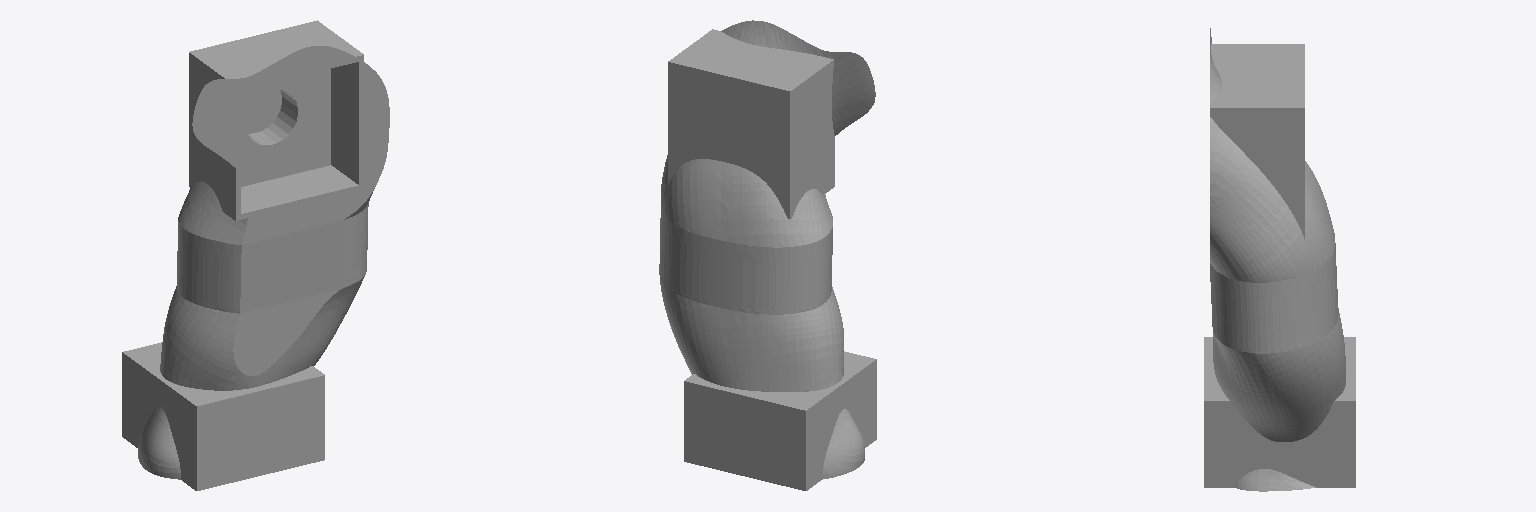
robot.urdf — FrogBot4_top-FrogBot4-y-5_bottom-FrogBot4-y-5:
<?xml version="1.0" ?>
<robot name="FrogBot4_top-FrogBot4-y-5_bottom-FrogBot4-y-5">

<material name="pla_5_percent_infill">
  <color rgba="0.700 0.700 0.700 1.000"/>
</material>

<link name="base_link">
  <inertial>
    <origin xyz="0 0 0" rpy="0 0 0"/>
    <mass value="1.4608203761339813"/>
    <inertia ixx="0.00496034401110324" iyy="0.010259632804669863" izz="0.010457868746855814" ixy="4.519338143051983e-05" iyz="5.808312742508133e-05" ixz="-0.001193761897574285"/>
  </inertial>
  <visual>
    <origin xyz="0 0 0" rpy="0 0 0"/>
    <geometry>
      <mesh filename="simple_meshes/base_link.stl" scale="0.001 0.001 0.001"/>
    </geometry>
    <material name="pla_5_percent_infill"/>
  </visual>
  <collision>
    <origin xyz="0 0 0" rpy="0 0 0"/>
    <geometry>
      <mesh filename="simple_meshes/base_link.stl" scale="0.001 0.001 0.001"/>
    </geometry>
  </collision>
</link>

<link name="body_1_0_1">
  <inertial>
    <origin xyz="-0.039935 -0.102508 -0.020563" rpy="0 0 0"/>
    <mass value="0.0797575690457002"/>
    <inertia ixx="9.596908685615075e-05" iyy="0.00011091879741799903" izz="3.522125293106931e-05" ixy="9.601431572328037e-07" iyz="2.5762300177321396e-06" ixz="-1.4283803855344253e-05"/>
  </inertial>
  <visual>
    <origin xyz="-0.039935 -0.102508 -0.020563" rpy="0 0 0"/>
    <geometry>
      <mesh filename="simple_meshes/body_1_0_1.stl" scale="0.001 0.001 0.001"/>
    </geometry>
    <material name="pla_5_percent_infill"/>
  </visual>
  <collision>
    <origin xyz="-0.039935 -0.102508 -0.020563" rpy="0 0 0"/>
    <geometry>
      <mesh filename="simple_meshes/body_1_0_1.stl" scale="0.001 0.001 0.001"/>
    </geometry>
  </collision>
</link>

<link name="body_1_1_1">
  <inertial>
    <origin xyz="0.084829 -0.102508 0.010182" rpy="0 0 0"/>
    <mass value="0.09086982590961837"/>
    <inertia ixx="7.374602697779453e-05" iyy="0.00011966949240370243" izz="6.908560886746077e-05" ixy="-1.809481770038545e-06" iyz="1.4409274726226418e-06" ixz="-2.5080055862619513e-05"/>
  </inertial>
  <visual>
    <origin xyz="0.084829 -0.102508 0.010182" rpy="0 0 0"/>
    <geometry>
      <mesh filename="simple_meshes/body_1_1_1.stl" scale="0.001 0.001 0.001"/>
    </geometry>
    <material name="pla_5_percent_infill"/>
  </visual>
  <collision>
    <origin xyz="0.084829 -0.102508 0.010182" rpy="0 0 0"/>
    <geometry>
      <mesh filename="simple_meshes/body_1_1_1.stl" scale="0.001 0.001 0.001"/>
    </geometry>
  </collision>
</link>

<link name="body_1_2_1">
  <inertial>
    <origin xyz="-0.032973 0.102508 -0.03352" rpy="0 0 0"/>
    <mass value="0.08598380183621689"/>
    <inertia ixx="0.00011939814485395126" iyy="0.00013314867563339968" izz="3.85695146195126e-05" ixy="-2.5313666252345184e-06" iyz="-1.1852535218708458e-05" ixz="-1.213934499738814e-05"/>
  </inertial>
  <visual>
    <origin xyz="-0.032973 0.102508 -0.03352" rpy="0 0 0"/>
    <geometry>
      <mesh filename="simple_meshes/body_1_2_1.stl" scale="0.001 0.001 0.001"/>
    </geometry>
    <material name="pla_5_percent_infill"/>
  </visual>
  <collision>
    <origin xyz="-0.032973 0.102508 -0.03352" rpy="0 0 0"/>
    <geometry>
      <mesh filename="simple_meshes/body_1_2_1.stl" scale="0.001 0.001 0.001"/>
    </geometry>
  </collision>
</link>

<link name="body_1_3_1">
  <inertial>
    <origin xyz="0.075405 0.102508 -0.000907" rpy="0 0 0"/>
    <mass value="0.0967763922690638"/>
    <inertia ixx="8.135179800362923e-05" iyy="0.00012828418050823292" izz="7.223065863361851e-05" ixy="2.1558488701709823e-07" iyz="-1.4791244760987304e-06" ixz="-2.498597966897739e-05"/>
  </inertial>
  <visual>
    <origin xyz="0.075405 0.102508 -0.000907" rpy="0 0 0"/>
    <geometry>
      <mesh filename="simple_meshes/body_1_3_1.stl" scale="0.001 0.001 0.001"/>
    </geometry>
    <material name="pla_5_percent_infill"/>
  </visual>
  <collision>
    <origin xyz="0.075405 0.102508 -0.000907" rpy="0 0 0"/>
    <geometry>
      <mesh filename="simple_meshes/body_1_3_1.stl" scale="0.001 0.001 0.001"/>
    </geometry>
  </collision>
</link>

<link name="body_2_0_1">
  <inertial>
    <origin xyz="-0.025656 -0.145015 0.110436" rpy="0 0 0"/>
    <mass value="0.09993784779433719"/>
    <inertia ixx="7.343545432933214e-05" iyy="9.46708259906429e-05" izz="0.00010223000765041809" ixy="-4.971902130602741e-07" iyz="8.242547604986848e-07" ixz="2.1220454857030693e-05"/>
  </inertial>
  <visual>
    <origin xyz="-0.025656 -0.145015 0.110436" rpy="0 0 0"/>
    <geometry>
      <mesh filename="simple_meshes/body_2_0_1.stl" scale="0.001 0.001 0.001"/>
    </geometry>
    <material name="pla_5_percent_infill"/>
  </visual>
  <collision>
    <origin xyz="-0.025656 -0.145015 0.110436" rpy="0 0 0"/>
    <geometry>
      <mesh filename="simple_meshes/body_2_0_1.stl" scale="0.001 0.001 0.001"/>
    </geometry>
  </collision>
</link>

<link name="body_2_1_1">
  <inertial>
    <origin xyz="0.114857 -0.145661 0.110438" rpy="0 0 0"/>
    <mass value="0.08581514200507374"/>
    <inertia ixx="5.2937503998195905e-05" iyy="8.568402331422201e-05" izz="7.328120701207341e-05" ixy="-3.690929836665984e-06" iyz="5.026785037510247e-06" ixz="2.2002568851585544e-05"/>
  </inertial>
  <visual>
    <origin xyz="0.114857 -0.145661 0.110438" rpy="0 0 0"/>
    <geometry>
      <mesh filename="simple_meshes/body_2_1_1.stl" scale="0.001 0.001 0.001"/>
    </geometry>
    <material name="pla_5_percent_infill"/>
  </visual>
  <collision>
    <origin xyz="0.114857 -0.145661 0.110438" rpy="0 0 0"/>
    <geometry>
      <mesh filename="simple_meshes/body_2_1_1.stl" scale="0.001 0.001 0.001"/>
    </geometry>
  </collision>
</link>

<link name="body_2_2_1">
  <inertial>
    <origin xyz="-0.022601 0.152053 0.110436" rpy="0 0 0"/>
    <mass value="0.1086195022886029"/>
    <inertia ixx="7.921089844994088e-05" iyy="0.0001038005271223226" izz="0.00010988599131268265" ixy="-2.922128324624293e-06" iyz="-6.077753158975456e-07" ixz="2.3352375004814883e-05"/>
  </inertial>
  <visual>
    <origin xyz="-0.022601 0.152053 0.110436" rpy="0 0 0"/>
    <geometry>
      <mesh filename="simple_meshes/body_2_2_1.stl" scale="0.001 0.001 0.001"/>
    </geometry>
    <material name="pla_5_percent_infill"/>
  </visual>
  <collision>
    <origin xyz="-0.022601 0.152053 0.110436" rpy="0 0 0"/>
    <geometry>
      <mesh filename="simple_meshes/body_2_2_1.stl" scale="0.001 0.001 0.001"/>
    </geometry>
  </collision>
</link>

<link name="body_2_3_1">
  <inertial>
    <origin xyz="0.12145 0.146005 0.110436" rpy="0 0 0"/>
    <mass value="0.08886401518465152"/>
    <inertia ixx="6.726090625574967e-05" iyy="7.547460987963493e-05" izz="8.525531727069605e-05" ixy="6.368873074878104e-06" iyz="-8.898108197705808e-06" ixz="1.5173487437103103e-05"/>
  </inertial>
  <visual>
    <origin xyz="0.12145 0.146005 0.110436" rpy="0 0 0"/>
    <geometry>
      <mesh filename="simple_meshes/body_2_3_1.stl" scale="0.001 0.001 0.001"/>
    </geometry>
    <material name="pla_5_percent_infill"/>
  </visual>
  <collision>
    <origin xyz="0.12145 0.146005 0.110436" rpy="0 0 0"/>
    <geometry>
      <mesh filename="simple_meshes/body_2_3_1.stl" scale="0.001 0.001 0.001"/>
    </geometry>
  </collision>
</link>

<joint name="joint_1_0" type="revolute">
  <origin xyz="0.039935 0.102508 0.020563" rpy="0 0 0"/>
  <parent link="base_link"/>
  <child link="body_1_0_1"/>
  <axis xyz="0.0 0.0 -1.0"/>
  <limit upper="1.2" lower="-1.2" effort="3.8" velocity="5.4"/>
</joint>
<transmission name="joint_1_0_tran">
  <type>transmission_interface/SimpleTransmission</type>
  <joint name="joint_1_0">
    <hardwareInterface>PositionJointInterface</hardwareInterface>
  </joint>
  <actuator name="joint_1_0_actr">
    <hardwareInterface>PositionJointInterface</hardwareInterface>
    <mechanicalReduction>1</mechanicalReduction>
  </actuator>
</transmission>

<joint name="joint_1_1" type="revolute">
  <origin xyz="-0.084829 0.102508 -0.010182" rpy="0 0 0"/>
  <parent link="base_link"/>
  <child link="body_1_1_1"/>
  <axis xyz="0.0 0.0 -1.0"/>
  <limit upper="1.2" lower="-1.2" effort="3.8" velocity="5.4"/>
</joint>
<transmission name="joint_1_1_tran">
  <type>transmission_interface/SimpleTransmission</type>
  <joint name="joint_1_1">
    <hardwareInterface>PositionJointInterface</hardwareInterface>
  </joint>
  <actuator name="joint_1_1_actr">
    <hardwareInterface>PositionJointInterface</hardwareInterface>
    <mechanicalReduction>1</mechanicalReduction>
  </actuator>
</transmission>

<joint name="joint_1_2" type="revolute">
  <origin xyz="0.032973 -0.102508 0.03352" rpy="0 0 0"/>
  <parent link="base_link"/>
  <child link="body_1_2_1"/>
  <axis xyz="0.0 0.0 -1.0"/>
  <limit upper="1.2" lower="-1.2" effort="3.8" velocity="5.4"/>
</joint>
<transmission name="joint_1_2_tran">
  <type>transmission_interface/SimpleTransmission</type>
  <joint name="joint_1_2">
    <hardwareInterface>PositionJointInterface</hardwareInterface>
  </joint>
  <actuator name="joint_1_2_actr">
    <hardwareInterface>PositionJointInterface</hardwareInterface>
    <mechanicalReduction>1</mechanicalReduction>
  </actuator>
</transmission>

<joint name="joint_1_3" type="revolute">
  <origin xyz="-0.075405 -0.102508 0.000907" rpy="0 0 0"/>
  <parent link="base_link"/>
  <child link="body_1_3_1"/>
  <axis xyz="0.0 0.0 -1.0"/>
  <limit upper="1.2" lower="-1.2" effort="3.8" velocity="5.4"/>
</joint>
<transmission name="joint_1_3_tran">
  <type>transmission_interface/SimpleTransmission</type>
  <joint name="joint_1_3">
    <hardwareInterface>PositionJointInterface</hardwareInterface>
  </joint>
  <actuator name="joint_1_3_actr">
    <hardwareInterface>PositionJointInterface</hardwareInterface>
    <mechanicalReduction>1</mechanicalReduction>
  </actuator>
</transmission>

<joint name="joint_2_0" type="revolute">
  <origin xyz="-0.014279 0.042507 -0.130999" rpy="0 0 0"/>
  <parent link="body_1_0_1"/>
  <child link="body_2_0_1"/>
  <axis xyz="0.0 1.0 0.0"/>
  <limit upper="1.2" lower="-1.2" effort="3.8" velocity="5.4"/>
</joint>
<transmission name="joint_2_0_tran">
  <type>transmission_interface/SimpleTransmission</type>
  <joint name="joint_2_0">
    <hardwareInterface>PositionJointInterface</hardwareInterface>
  </joint>
  <actuator name="joint_2_0_actr">
    <hardwareInterface>PositionJointInterface</hardwareInterface>
    <mechanicalReduction>1</mechanicalReduction>
  </actuator>
</transmission>

<joint name="joint_2_1" type="revolute">
  <origin xyz="-0.030028 0.043153 -0.100256" rpy="0 0 0"/>
  <parent link="body_1_1_1"/>
  <child link="body_2_1_1"/>
  <axis xyz="0.0 1.0 0.0"/>
  <limit upper="1.2" lower="-1.2" effort="3.8" velocity="5.4"/>
</joint>
<transmission name="joint_2_1_tran">
  <type>transmission_interface/SimpleTransmission</type>
  <joint name="joint_2_1">
    <hardwareInterface>PositionJointInterface</hardwareInterface>
  </joint>
  <actuator name="joint_2_1_actr">
    <hardwareInterface>PositionJointInterface</hardwareInterface>
    <mechanicalReduction>1</mechanicalReduction>
  </actuator>
</transmission>

<joint name="joint_2_2" type="revolute">
  <origin xyz="-0.010372 -0.049545 -0.143956" rpy="0 0 0"/>
  <parent link="body_1_2_1"/>
  <child link="body_2_2_1"/>
  <axis xyz="0.0 1.0 0.0"/>
  <limit upper="1.2" lower="-1.2" effort="3.8" velocity="5.4"/>
</joint>
<transmission name="joint_2_2_tran">
  <type>transmission_interface/SimpleTransmission</type>
  <joint name="joint_2_2">
    <hardwareInterface>PositionJointInterface</hardwareInterface>
  </joint>
  <actuator name="joint_2_2_actr">
    <hardwareInterface>PositionJointInterface</hardwareInterface>
    <mechanicalReduction>1</mechanicalReduction>
  </actuator>
</transmission>

<joint name="joint_2_3" type="revolute">
  <origin xyz="-0.046045 -0.043497 -0.111343" rpy="0 0 0"/>
  <parent link="body_1_3_1"/>
  <child link="body_2_3_1"/>
  <axis xyz="0.0 1.0 0.0"/>
  <limit upper="1.2" lower="-1.2" effort="3.8" velocity="5.4"/>
</joint>
<transmission name="joint_2_3_tran">
  <type>transmission_interface/SimpleTransmission</type>
  <joint name="joint_2_3">
    <hardwareInterface>PositionJointInterface</hardwareInterface>
  </joint>
  <actuator name="joint_2_3_actr">
    <hardwareInterface>PositionJointInterface</hardwareInterface>
    <mechanicalReduction>1</mechanicalReduction>
  </actuator>
</transmission>

</robot>

--- Render facts (derived) ---
3 views of the same robot in one strip: view 1: azimuth 30°, elevation 25°; view 2: azimuth 150°, elevation 25°; view 3: azimuth 270°, elevation 25° (orthographic).
Model FrogBot4_top-FrogBot4-y-5_bottom-FrogBot4-y-5 with 9 links and 8 joints (8 revolute), rooted at base_link, posed all joints at 0.
Links seen in each view (by area): view 1: body_1_0_1; view 2: body_1_0_1; view 3: body_1_0_1.
Boxes of the visible links, bbox=[...] form: body_1_0_1: bbox=[122, 20, 389, 490]; body_1_0_1: bbox=[659, 20, 876, 490]; body_1_0_1: bbox=[1204, 28, 1355, 491].
Bounding box of the posed robot: 0.0797 × 0.0484 × 0.1489 m (x, y, z).
1 mesh visuals loaded from 9 distinct referenced files (1 binary STL); not drawn: 8 (reference not matched to a file when rendering).